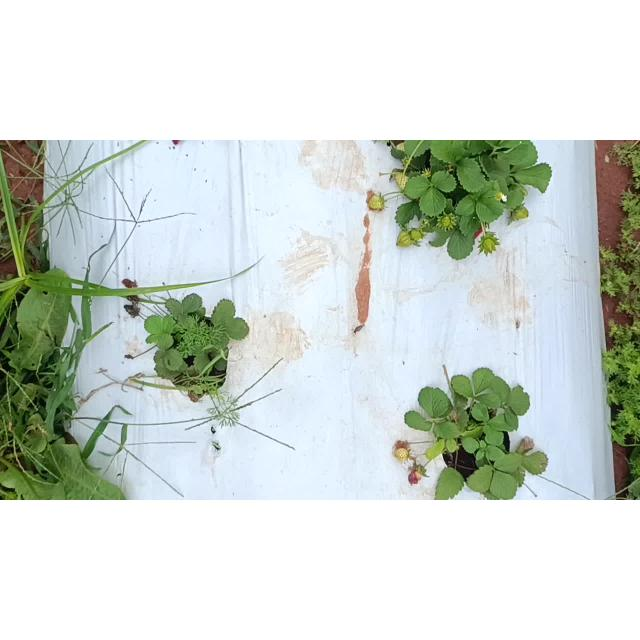no-maduro: (396, 230, 414, 248), (367, 193, 385, 211), (394, 170, 410, 190), (394, 448, 408, 462), (514, 205, 528, 219)
